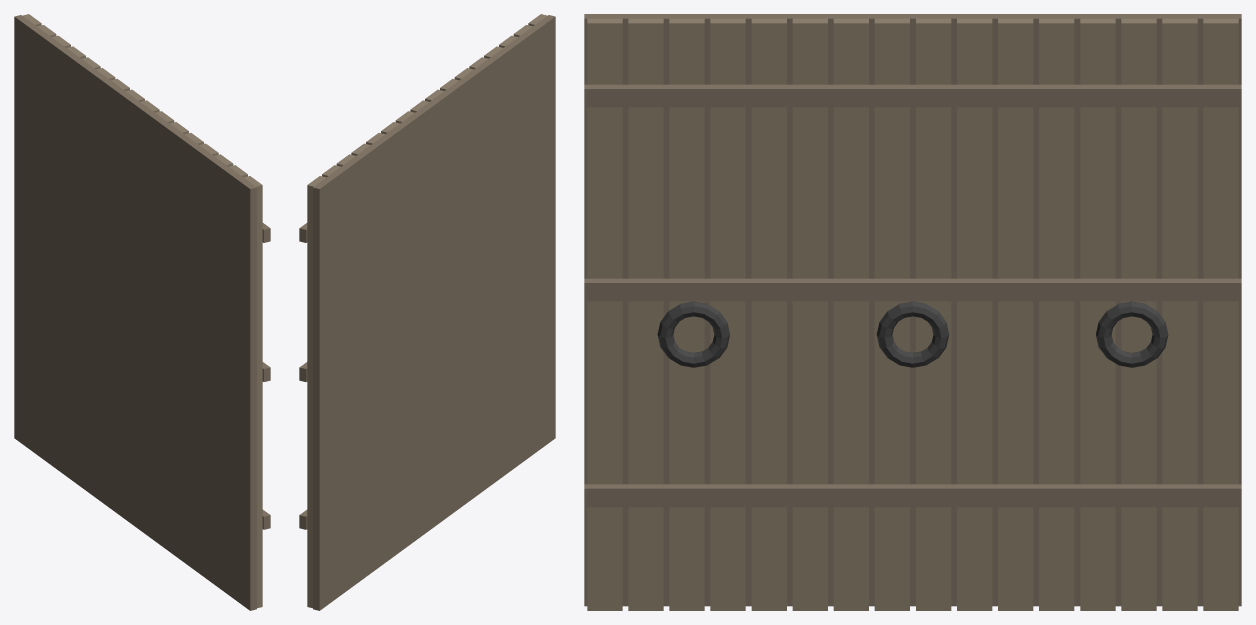
Rendered from dm_dockfendersquare.glb.
3 renders of one model, left to right at view 1: azimuth 30°, elevation 25°; view 2: azimuth 150°, elevation 25°; view 3: azimuth 270°, elevation 25°, orthographic. The views are drawn at different scales.
Parts seen in each view (by area): view 1: dm_dockfendersquare; view 2: dm_dockfendersquare; view 3: dm_dockfendersquare.
Boxes of the visible parts, <box> form: dm_dockfendersquare: <box>14,14,270,610</box>; dm_dockfendersquare: <box>299,14,555,610</box>; dm_dockfendersquare: <box>584,14,1241,610</box>.
Bounding box in the file's own units: 0.54 × 9.6 × 9.73.
